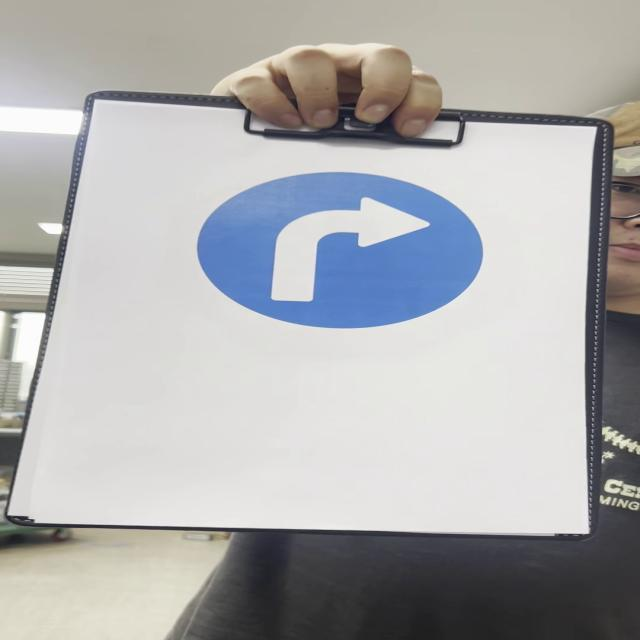right: (195, 172, 480, 331)
